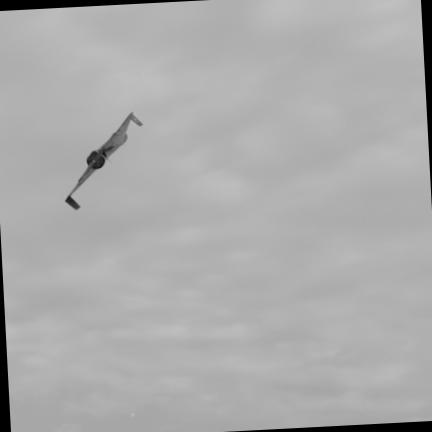Shahed: (66, 113, 142, 209)
